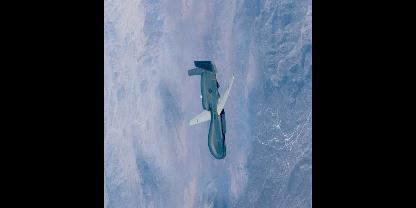P3: (188, 60, 234, 158)
